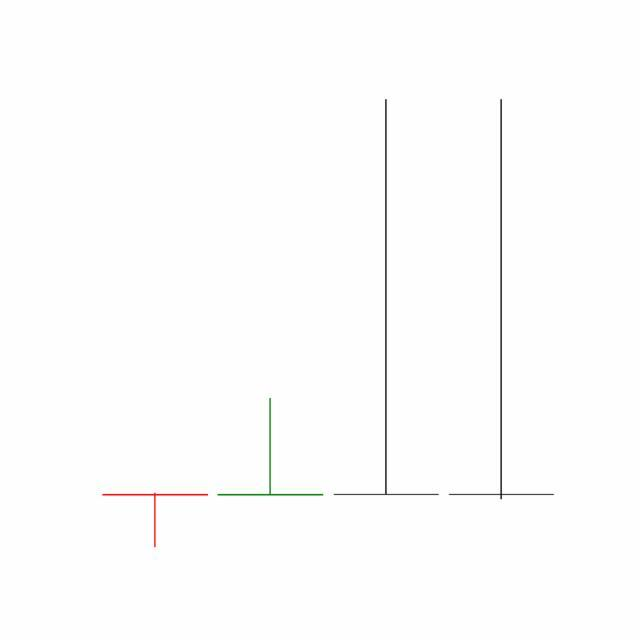Gravestone Doji: (329, 95, 445, 500)
